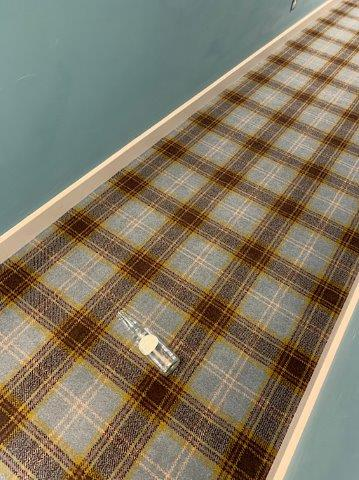botolkaca: (118, 311, 179, 375)
